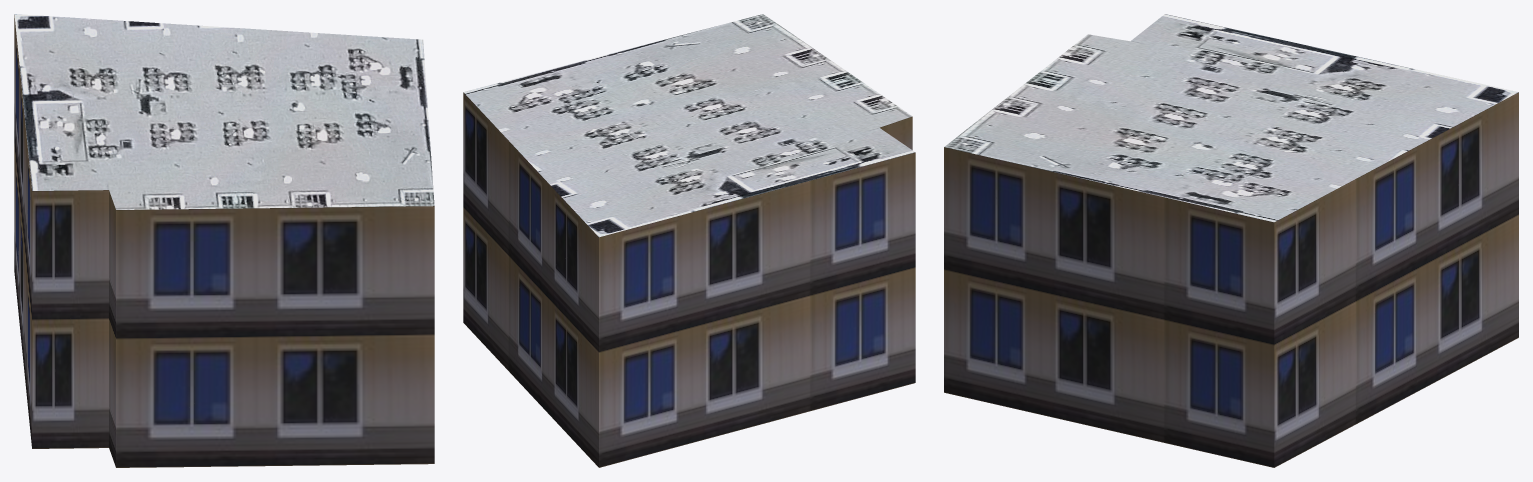
Rendered from ResTex__816.fbx.
3 views of the same model, side by side, from view 1: azimuth 30°, elevation 25°; view 2: azimuth 150°, elevation 25°; view 3: azimuth 270°, elevation 25° (orthographic). The views are drawn at different scales.
Visible parts, largest first — view 1: CityEngineMaterial_5_m, CityEngineMaterial_2_m; view 2: CityEngineMaterial_5_m, CityEngineMaterial_2_m; view 3: CityEngineMaterial_5_m, CityEngineMaterial_2_m.
Boxes of the visible parts, box(x1,y1,x2,y2) form: CityEngineMaterial_5_m: box(14, 15, 434, 467); CityEngineMaterial_2_m: box(14, 14, 434, 209); CityEngineMaterial_5_m: box(463, 92, 915, 467); CityEngineMaterial_2_m: box(463, 14, 915, 237); CityEngineMaterial_5_m: box(944, 92, 1518, 467); CityEngineMaterial_2_m: box(944, 14, 1518, 222).
Size of the model in its own units: 10.92 by 6 by 12.73.
Materials: 2 (2 with a texture image).
